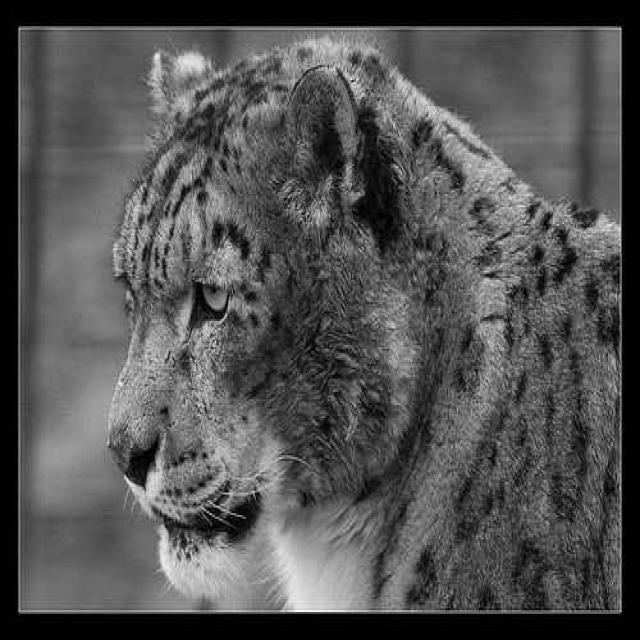Leopard: (63, 40, 527, 528)
